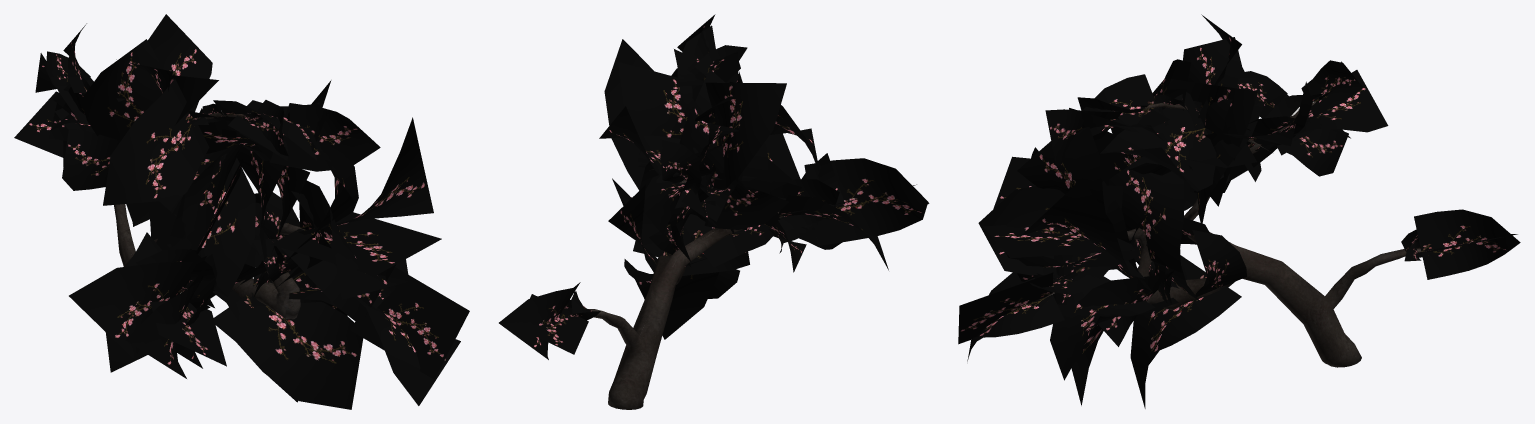
3 views of the same model, side by side, from view 1: azimuth 30°, elevation 25°; view 2: azimuth 150°, elevation 25°; view 3: azimuth 270°, elevation 25° (orthographic). The views are drawn at different scales.
Parts seen in each view (by area): view 1: Plane071, Plane061, Plane081, Plane025, Plane031, Plane042, Plane032, Plane016, Plane068, Plane005, Loft001, Plane009 (+32 smaller); view 2: Plane081, Loft001, Plane042, Plane056, Plane011, Plane070, Plane041, Plane029, Plane068, Plane054, Plane035, Plane020 (+24 smaller); view 3: Loft001, Plane067, Plane029, Plane056, Plane070, Plane005, Plane075, Plane068, Plane072, Plane021, Plane031, Plane032 (+25 smaller).
Part boxes in pixels (x1,y1,x2,y2): Plane071: (213, 295, 363, 409); Plane061: (103, 79, 209, 205); Plane081: (69, 256, 206, 359); Plane025: (156, 153, 255, 296); Plane031: (351, 267, 469, 379); Plane042: (81, 39, 163, 140); Plane032: (271, 212, 441, 275); Plane016: (270, 103, 380, 171); Plane068: (298, 117, 433, 234); Plane005: (299, 180, 409, 299); Loft001: (114, 112, 305, 319); Plane009: (354, 296, 460, 405); Plane081: (804, 158, 927, 245); Loft001: (588, 169, 783, 409); Plane042: (705, 82, 786, 202); Plane056: (618, 62, 690, 138); Plane011: (704, 172, 788, 229); Plane070: (624, 258, 718, 339); Plane041: (679, 69, 770, 194); Plane029: (499, 282, 580, 359); Plane068: (604, 39, 653, 190); Plane054: (645, 175, 711, 234); Plane035: (517, 294, 588, 354); Plane020: (599, 106, 680, 175); Loft001: (1044, 101, 1424, 367); Plane067: (1108, 156, 1183, 272); Plane029: (1414, 209, 1520, 279); Plane056: (1100, 92, 1223, 191); Plane070: (1130, 255, 1241, 408); Plane005: (978, 185, 1123, 275); Plane075: (1017, 127, 1105, 212); Plane068: (1021, 178, 1144, 278); Plane072: (1050, 276, 1155, 380); Plane021: (1182, 37, 1241, 136); Plane031: (958, 272, 1053, 344); Plane032: (983, 225, 1134, 257).
Size of the model in its own units: 421 by 405 by 643.
Materials: 2 (2 with a texture image).
